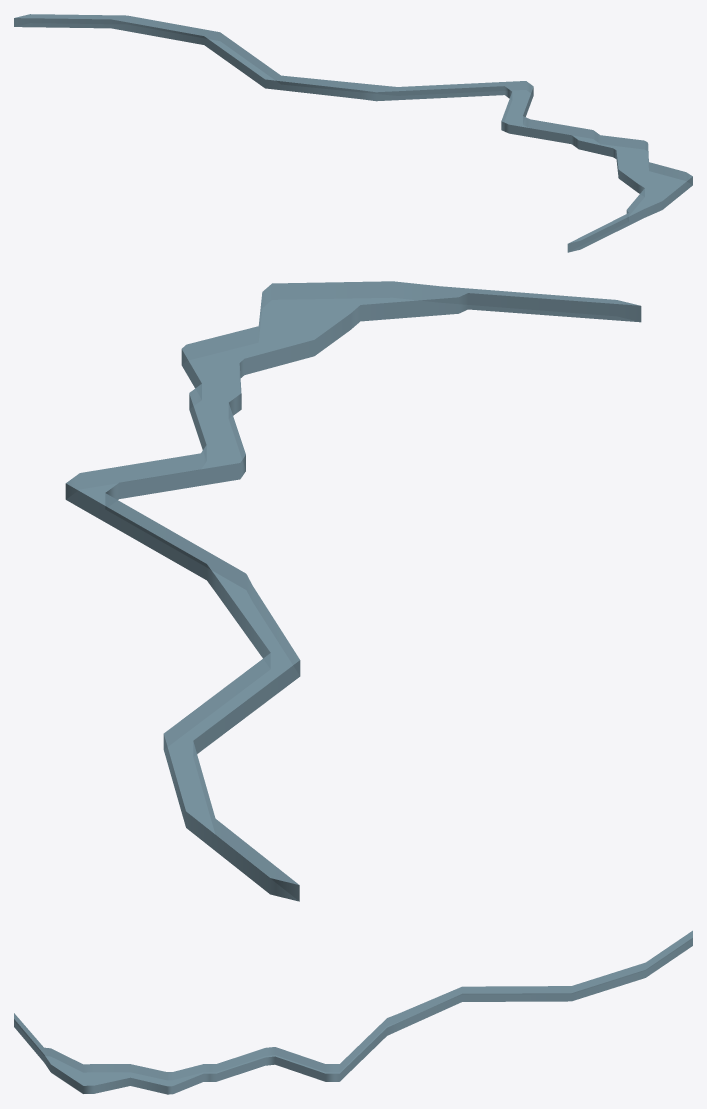
Rendered from RiverTorrens.fbx.
3 renders of one model, top to bottom at view 1: azimuth 30°, elevation 25°; view 2: azimuth 150°, elevation 25°; view 3: azimuth 270°, elevation 25°, orthographic. The views are drawn at different scales.
Visible parts, largest first — view 1: polySurface1; view 2: polySurface1; view 3: polySurface1.
Boxes of the visible parts, bbox=[...] form: polySurface1: bbox=[14, 14, 692, 252]; polySurface1: bbox=[65, 281, 641, 901]; polySurface1: bbox=[14, 930, 692, 1094].
Size of the model in its own units: 162 by 3.99 by 298.
